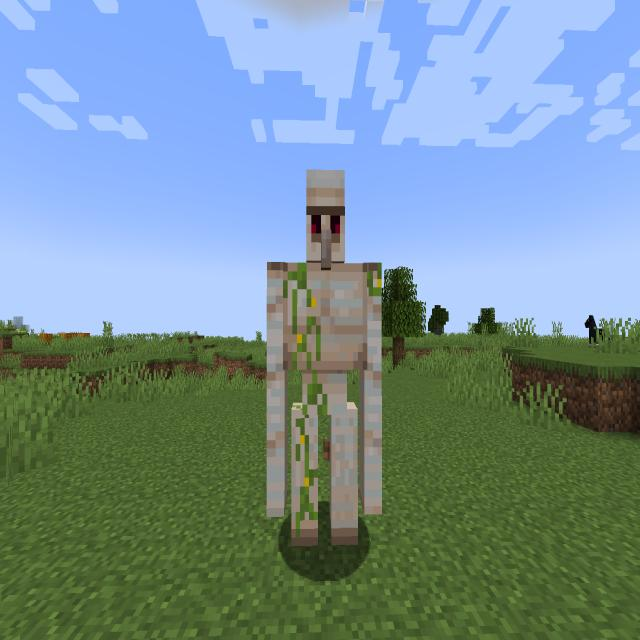iron golem: (254, 159, 392, 566)
